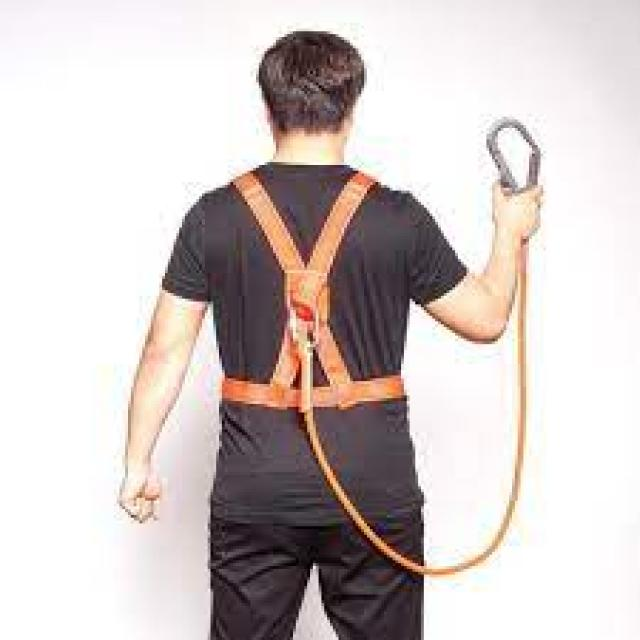harness: (270, 112, 576, 582)
